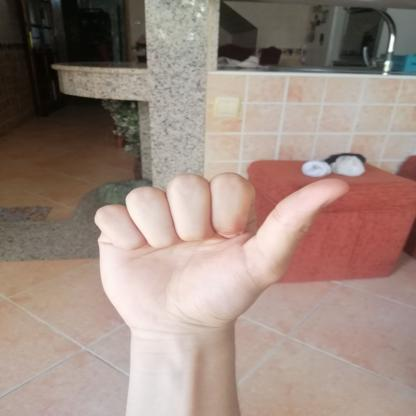DAD: (81, 161, 364, 345)
